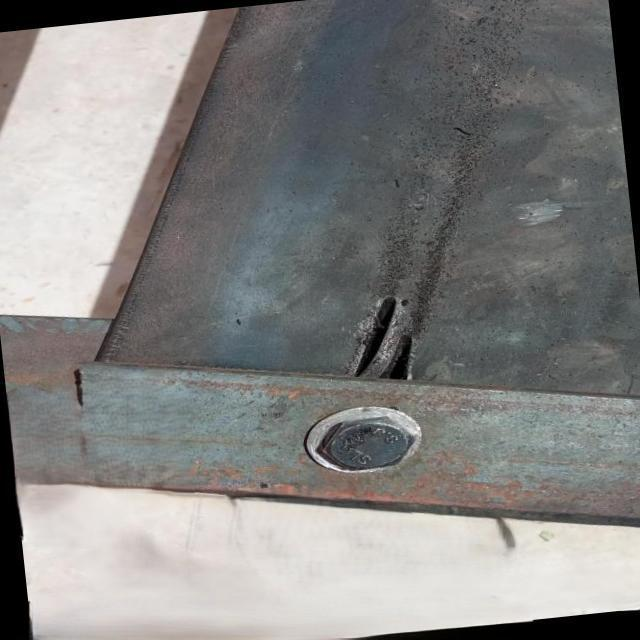Tear: (349, 292, 402, 384), (377, 334, 425, 383), (447, 119, 473, 140)
